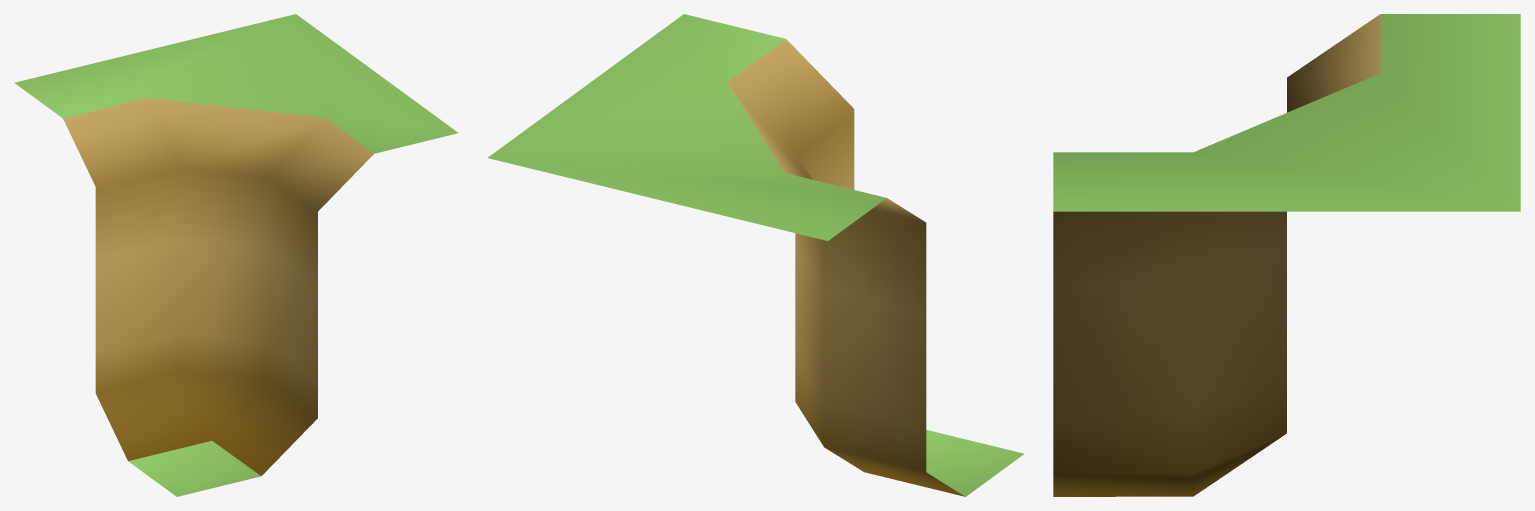
File: corner1.FBX
3 views of the same model, side by side, from view 1: azimuth 30°, elevation 25°; view 2: azimuth 150°, elevation 25°; view 3: azimuth 270°, elevation 25° (orthographic). The views are drawn at different scales.
Visible parts, largest first — view 1: wall007; view 2: wall007; view 3: wall007.
Part boxes in pixels (<box>): wall007: <box>14,14,458,496</box>; wall007: <box>487,14,1024,496</box>; wall007: <box>1053,14,1520,496</box>.
Bounding box in the file's own units: 100 × 100 × 100.
